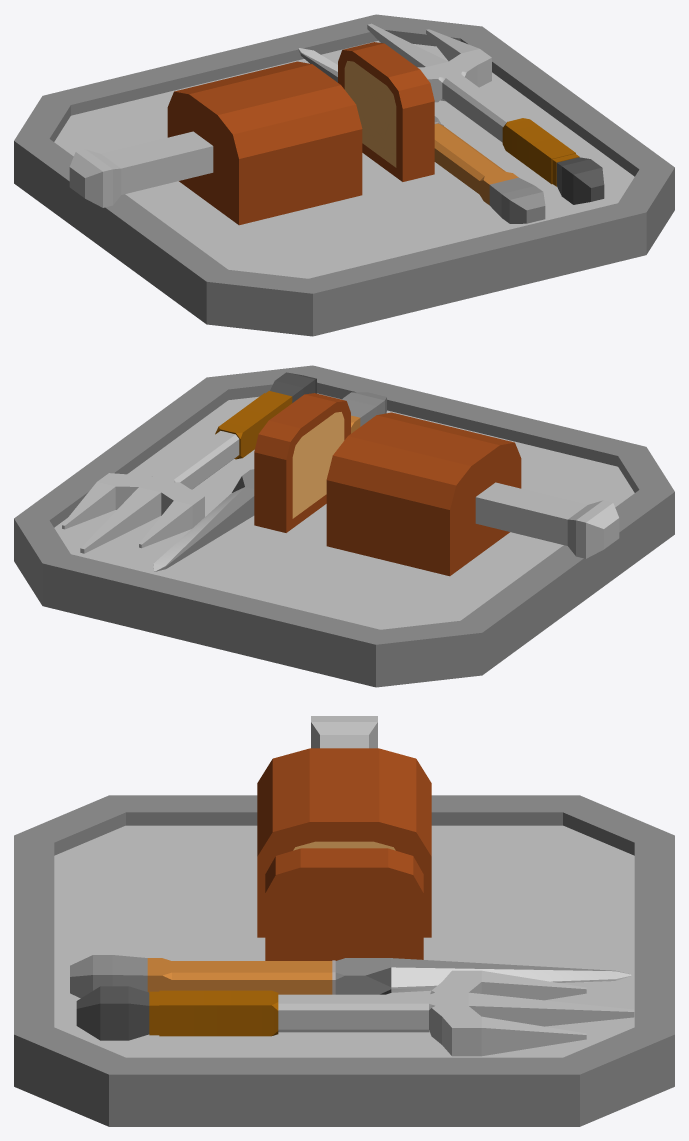
Rendered from Chicken Leg Meal.fbx.
3 views of the same model, one above another, from view 1: azimuth 30°, elevation 25°; view 2: azimuth 150°, elevation 25°; view 3: azimuth 270°, elevation 25° (orthographic). The views are drawn at different scales.
Visible parts, largest first — view 1: Chicken Leg Meal; view 2: Chicken Leg Meal; view 3: Chicken Leg Meal.
Boxes of the visible parts, <box> form: Chicken Leg Meal: <box>14,14,674,336</box>; Chicken Leg Meal: <box>14,365,674,687</box>; Chicken Leg Meal: <box>14,716,674,1126</box>.
Size of the model in its own units: 1.56 by 1.46 by 0.376.
